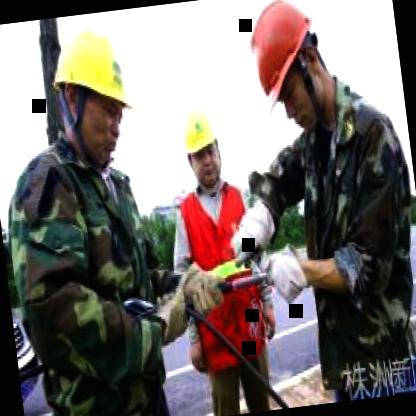helmet: (42, 12, 148, 172), (233, 0, 342, 144), (169, 86, 228, 196)
